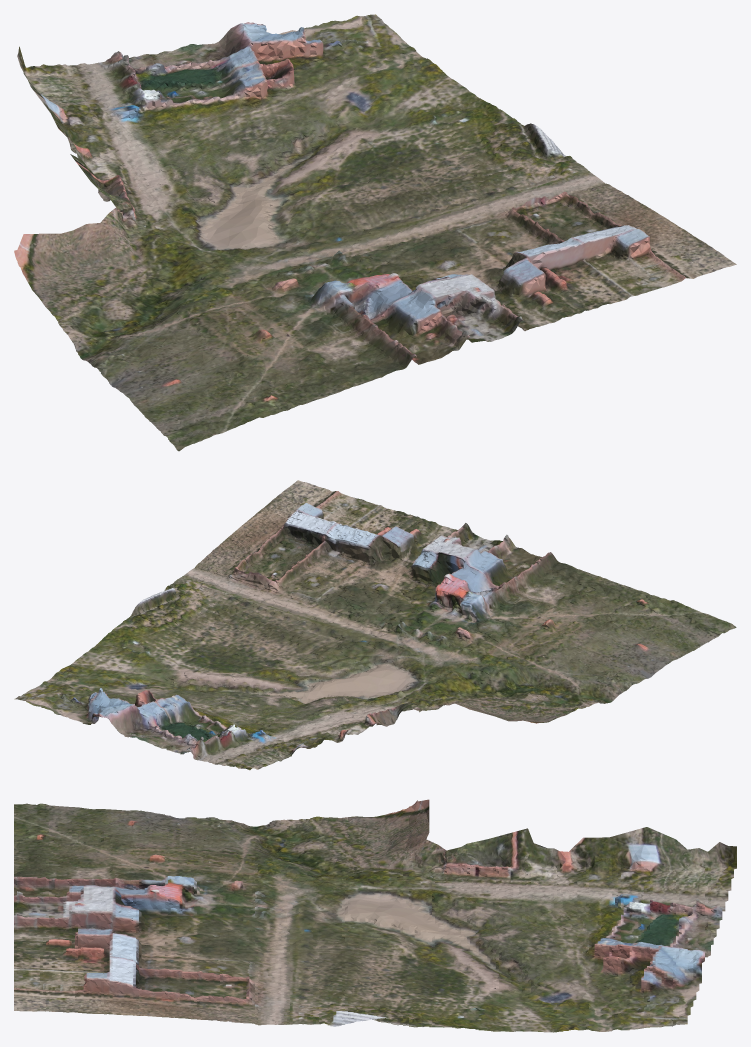
The model's file is MODELO4.GLB.
3 renders of one model, top to bottom at view 1: azimuth 30°, elevation 25°; view 2: azimuth 150°, elevation 25°; view 3: azimuth 270°, elevation 25°, orthographic. The views are drawn at different scales.
Size of the model in its own units: 104 by 13.87 by 124.
1 material, 1 textured.
